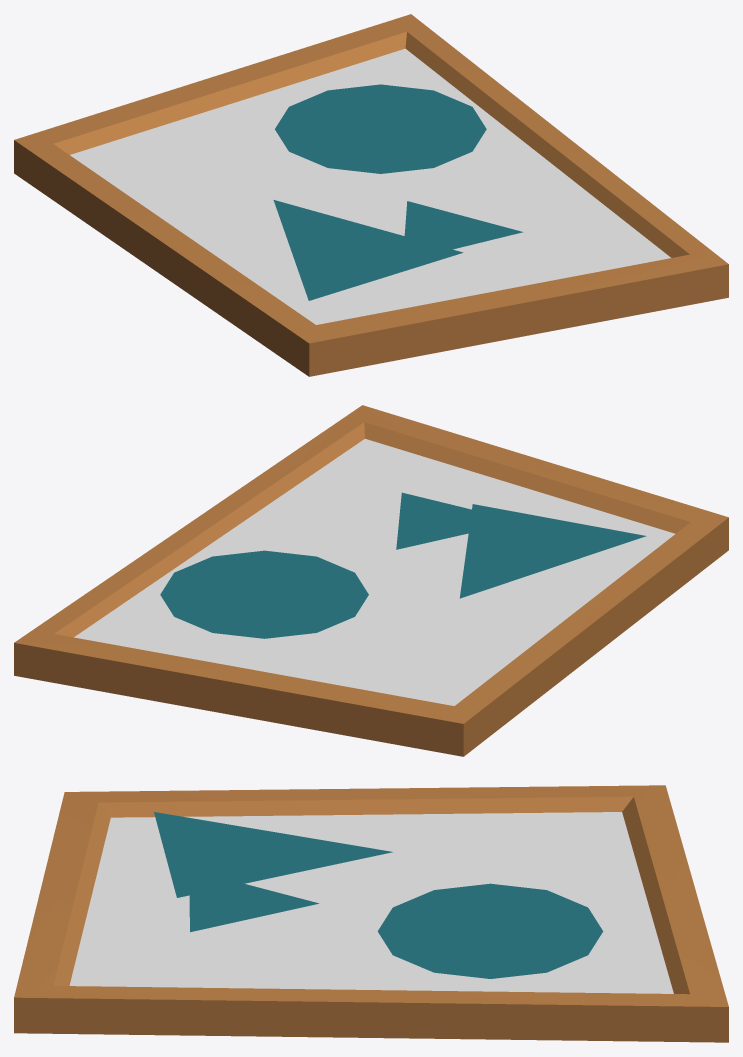
File: key_painting.fbx
3 views of the same model, one above another, from view 1: azimuth 30°, elevation 25°; view 2: azimuth 150°, elevation 25°; view 3: azimuth 270°, elevation 25° (orthographic). The views are drawn at different scales.
Parts seen in each view (by area): view 1: key_painting; view 2: key_painting; view 3: key_painting.
Part boxes in pixels (<box>): key_painting: <box>14,14,728,376</box>; key_painting: <box>14,405,728,756</box>; key_painting: <box>14,785,728,1042</box>.
Bounding box in the file's own units: 3.84 × 0.3012 × 5.24.
